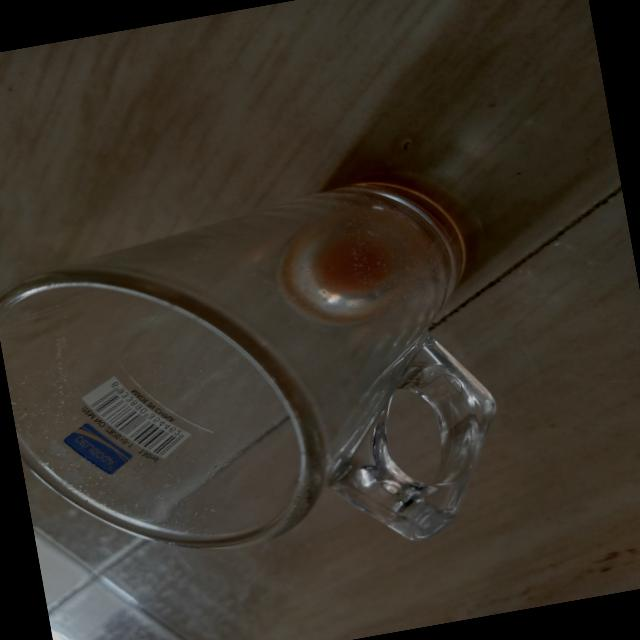glass-VX4N: (0, 160, 522, 606)
